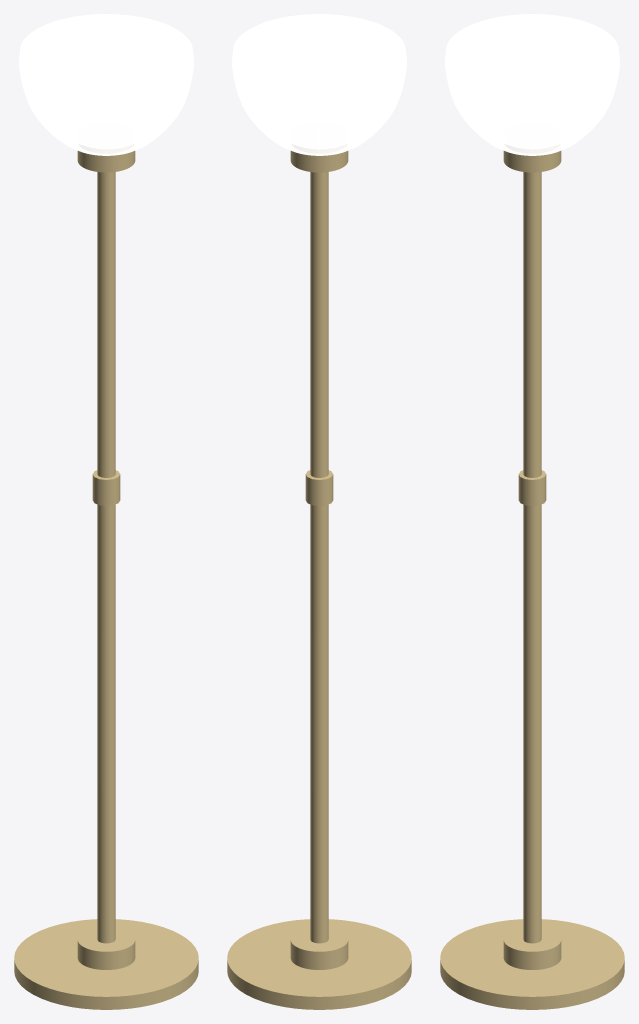
Rendered from X14_ARCH_Torchere_Lamp.glb.
The picture shows the model from 3 angles, left to right: view 1: azimuth 30°, elevation 25°; view 2: azimuth 150°, elevation 25°; view 3: azimuth 270°, elevation 25°; orthographic projection.
Visible parts, largest first — view 1: X14_ARCH_Torchere_Lamp_LOD0, X14_ARCH_Torchere_Lamp_Glass_LOD0; view 2: X14_ARCH_Torchere_Lamp_LOD0, X14_ARCH_Torchere_Lamp_Glass_LOD0; view 3: X14_ARCH_Torchere_Lamp_LOD0, X14_ARCH_Torchere_Lamp_Glass_LOD0.
Boxes of the visible parts, bbox=[...] form: X14_ARCH_Torchere_Lamp_LOD0: bbox=[14, 151, 198, 1009]; X14_ARCH_Torchere_Lamp_Glass_LOD0: bbox=[19, 14, 193, 155]; X14_ARCH_Torchere_Lamp_LOD0: bbox=[227, 151, 411, 1009]; X14_ARCH_Torchere_Lamp_Glass_LOD0: bbox=[232, 14, 406, 155]; X14_ARCH_Torchere_Lamp_LOD0: bbox=[440, 151, 624, 1009]; X14_ARCH_Torchere_Lamp_Glass_LOD0: bbox=[445, 14, 619, 155].
Size of what is drawn, in the model's own units: 0.32 by 1.76 by 0.32.
